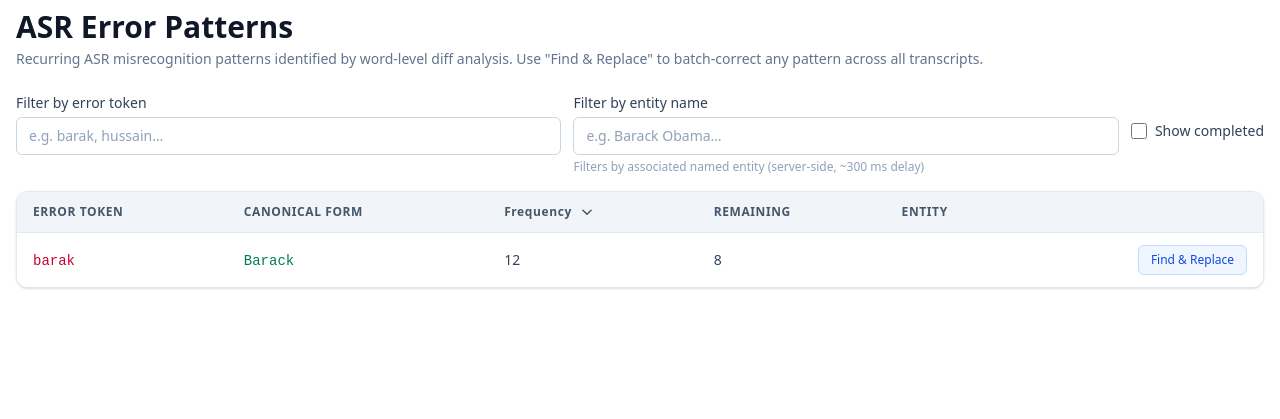
Test case: DiffAnalysisPage › shows empty state with filter message when error token filter matches nothing
Type "zzznomatch" into the search field named "filter patterns by error token" at point(289, 136), box [16,117,561,155]
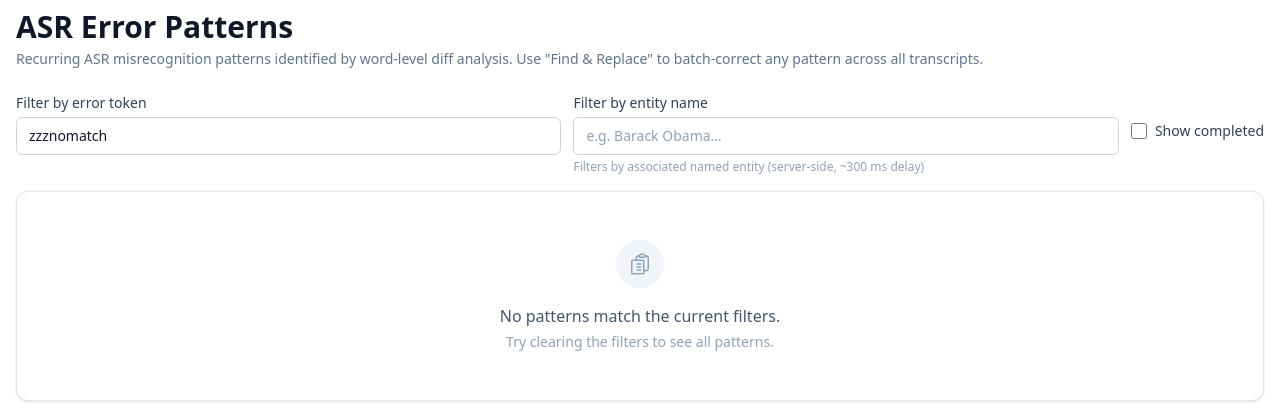
Result: the text "No patterns match the current filters." is shown at [500,305,780,327]
